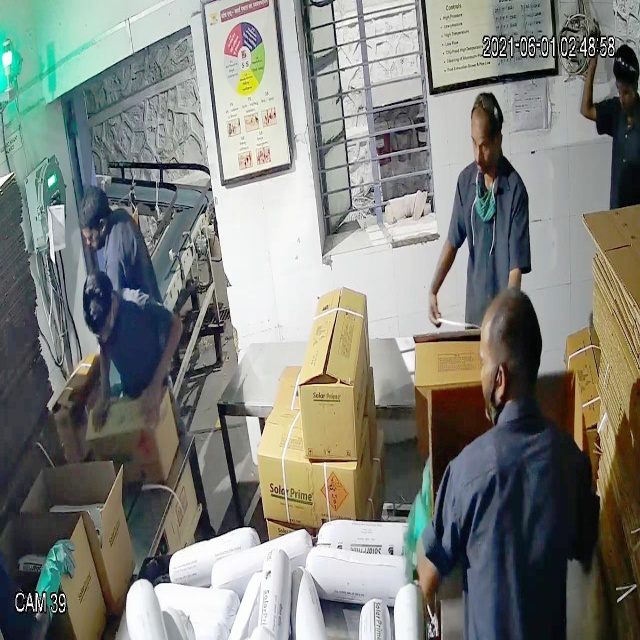Sin_gafas: (466, 132, 503, 162)
